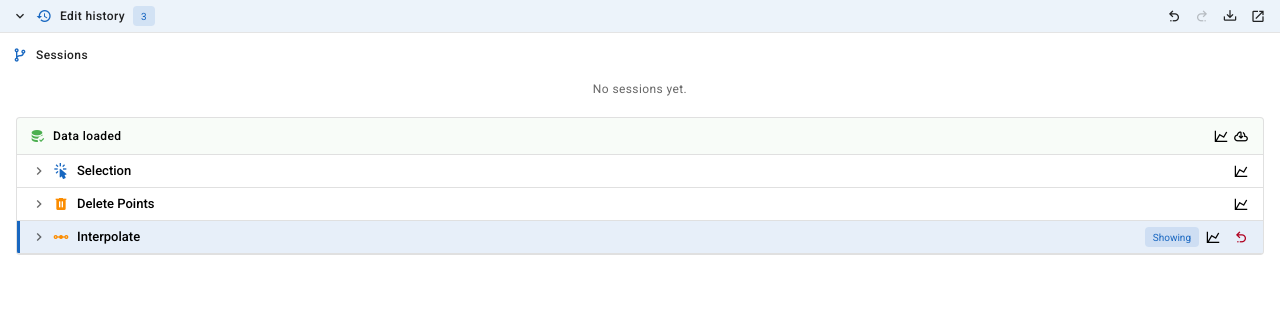
Test: EditHistory.vue actions › previewing a step › names the starting state when previewing it
The width and height of the screenshot is (1280, 316).
Click the element with test id "history-reload-step-baseline".
click(640, 136)  # box [17,118,1263,154]
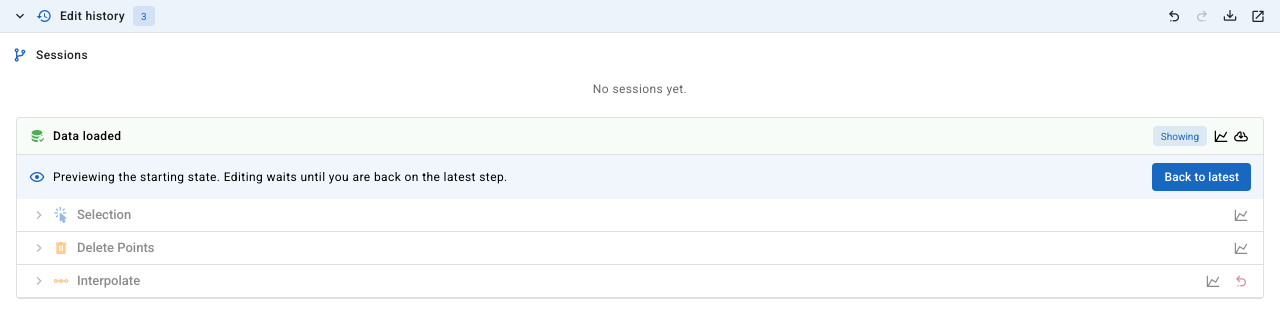
Expected: the element with test id "history-preview-banner" shows "the starting state", [53,170,508,184]
